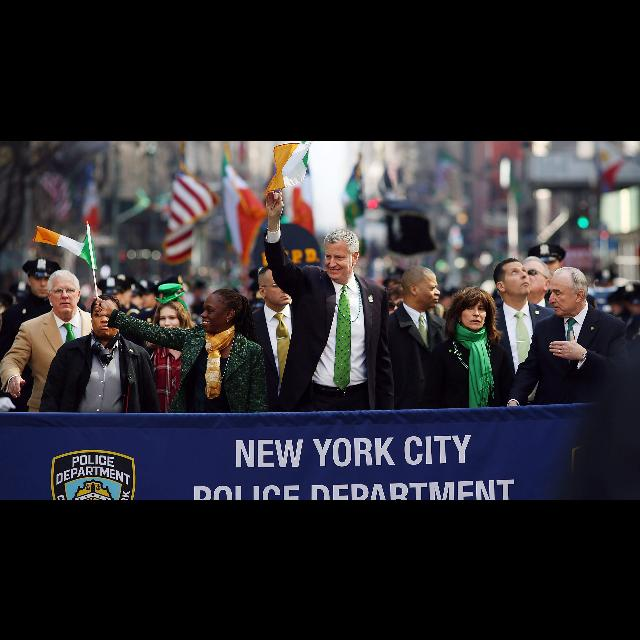head: (547, 266, 589, 316), (200, 288, 243, 332), (324, 228, 360, 280), (401, 264, 441, 308), (492, 256, 532, 296), (46, 269, 82, 313), (258, 266, 296, 304), (154, 296, 188, 338), (457, 288, 491, 330), (90, 294, 120, 338), (517, 257, 551, 293), (26, 264, 58, 298)
person: (492, 253, 568, 499)
